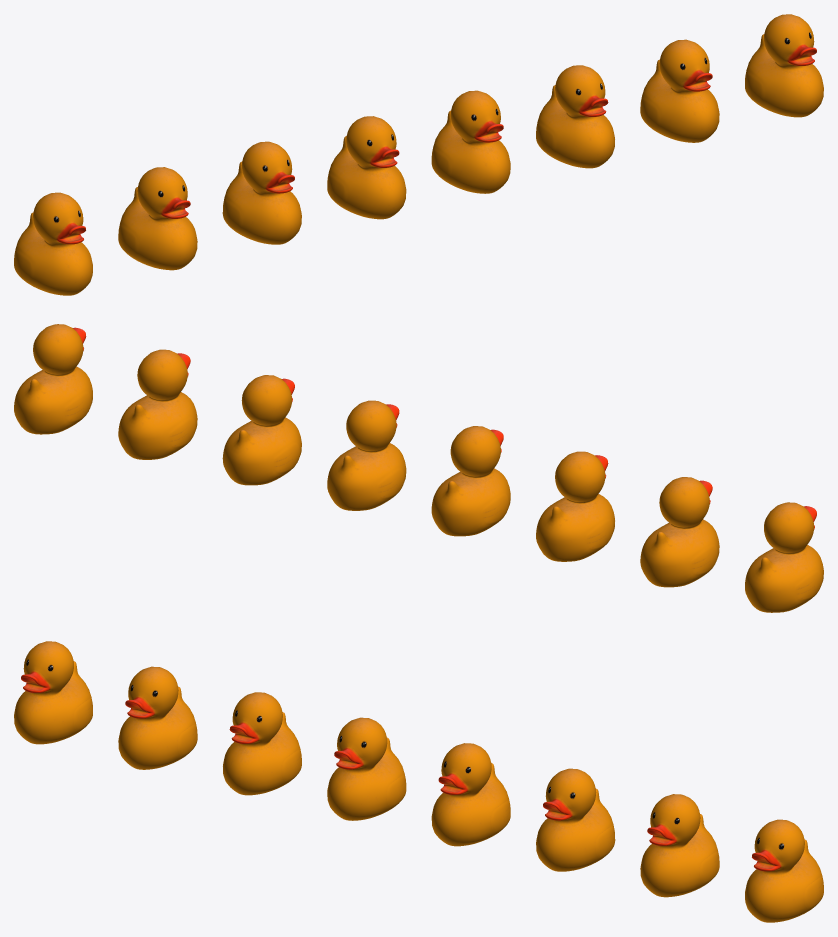
The model's file is stock_rubber_ducks_row.glb.
The picture shows the model from 3 angles, top to bottom: view 1: azimuth 30°, elevation 25°; view 2: azimuth 150°, elevation 25°; view 3: azimuth 330°, elevation 25°; orthographic projection.
Visible parts, largest first — view 1: rubber_duck_toy.001, rubber_duck_toy.006, rubber_duck_toy.003, rubber_duck_toy.002, rubber_duck_toy.004, rubber_duck_toy.005, rubber_duck_toy.007, rubber_duck_toy; view 2: rubber_duck_toy.001, rubber_duck_toy.003, rubber_duck_toy.006, rubber_duck_toy.004, rubber_duck_toy.007, rubber_duck_toy, rubber_duck_toy.002, rubber_duck_toy.005; view 3: rubber_duck_toy.006, rubber_duck_toy.001, rubber_duck_toy.004, rubber_duck_toy.003, rubber_duck_toy.005, rubber_duck_toy.002, rubber_duck_toy, rubber_duck_toy.007.
Part boxes in pixels (left/top/right/bottom): rubber_duck_toy.001: left=118, top=167, right=197, bottom=270; rubber_duck_toy.006: left=640, top=39, right=719, bottom=142; rubber_duck_toy.003: left=327, top=116, right=406, bottom=219; rubber_duck_toy.002: left=222, top=141, right=301, bottom=244; rubber_duck_toy.004: left=431, top=90, right=510, bottom=193; rubber_duck_toy.005: left=536, top=65, right=614, bottom=168; rubber_duck_toy.007: left=745, top=14, right=823, bottom=117; rubber_duck_toy: left=14, top=192, right=92, bottom=295; rubber_duck_toy.001: left=640, top=477, right=719, bottom=587; rubber_duck_toy.003: left=431, top=426, right=510, bottom=536; rubber_duck_toy.006: left=118, top=349, right=197, bottom=459; rubber_duck_toy.004: left=327, top=400, right=406, bottom=510; rubber_duck_toy.007: left=14, top=324, right=92, bottom=434; rubber_duck_toy: left=745, top=502, right=823, bottom=612; rubber_duck_toy.002: left=536, top=451, right=614, bottom=561; rubber_duck_toy.005: left=222, top=375, right=301, bottom=485; rubber_duck_toy.006: left=640, top=794, right=719, bottom=897; rubber_duck_toy.001: left=118, top=666, right=197, bottom=769; rubber_duck_toy.004: left=431, top=743, right=510, bottom=846; rubber_duck_toy.003: left=327, top=717, right=406, bottom=820; rubber_duck_toy.005: left=536, top=768, right=615, bottom=871; rubber_duck_toy.002: left=223, top=692, right=301, bottom=795; rubber_duck_toy: left=14, top=641, right=92, bottom=744; rubber_duck_toy.007: left=745, top=819, right=823, bottom=922.
Bounding box in the file's own units: 1.07 × 0.1142 × 0.12.
Materials: 8 (8 with a texture image).
